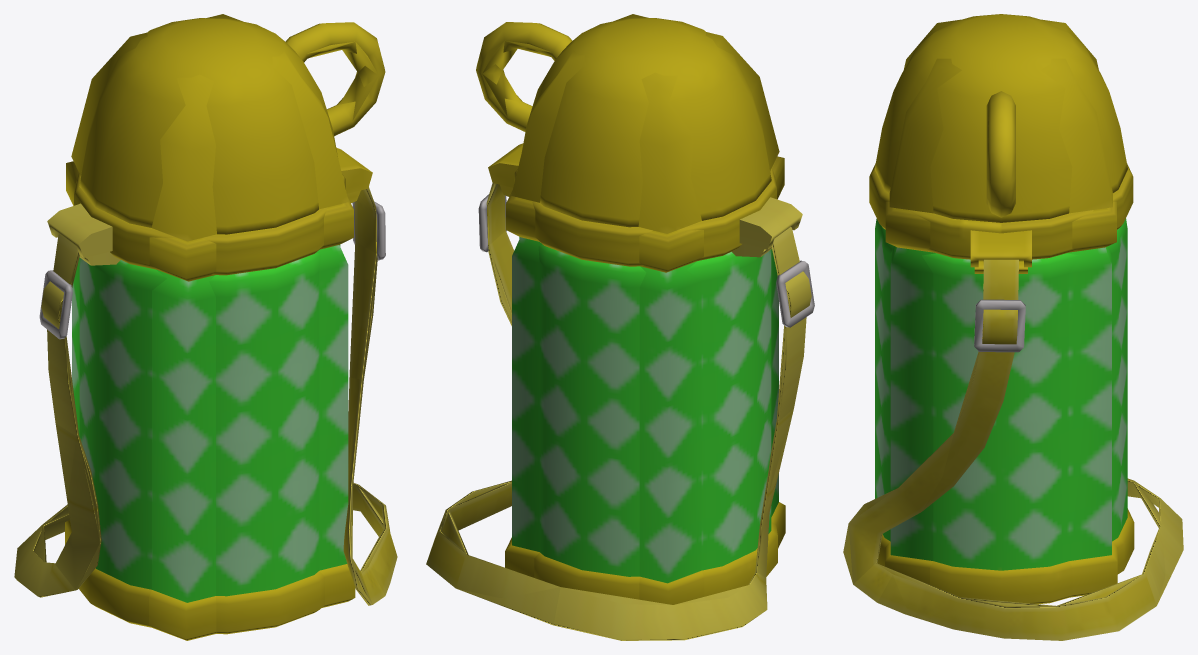
Rendered from pi_waterbottle02_03.gltf.
The picture shows the model from 3 angles, left to right: view 1: azimuth 30°, elevation 25°; view 2: azimuth 150°, elevation 25°; view 3: azimuth 270°, elevation 25°; orthographic projection. The views are drawn at different scales.
Parts seen in each view (by area): view 1: um_pi_waterbottle02_03_model_lod0Shape:pi_waterbottle02_03_b, um_pi_waterbottle02_03_model_lod2Shape:pi_waterbottle02_03_b, um_pi_waterbottle02_03_model_lod1Shape:pi_waterbottle02_03_b; view 2: um_pi_waterbottle02_03_model_lod0Shape:pi_waterbottle02_03_b, um_pi_waterbottle02_03_model_lod2Shape:pi_waterbottle02_03_b, um_pi_waterbottle02_03_model_lod1Shape:pi_waterbottle02_03_b; view 3: um_pi_waterbottle02_03_model_lod0Shape:pi_waterbottle02_03_b, um_pi_waterbottle02_03_model_lod2Shape:pi_waterbottle02_03_b, um_pi_waterbottle02_03_model_lod1Shape:pi_waterbottle02_03_b.
Boxes of the visible parts, <box> form: um_pi_waterbottle02_03_model_lod0Shape:pi_waterbottle02_03_b: <box>14,18,397,634</box>; um_pi_waterbottle02_03_model_lod2Shape:pi_waterbottle02_03_b: <box>34,14,388,640</box>; um_pi_waterbottle02_03_model_lod1Shape:pi_waterbottle02_03_b: <box>55,210,396,595</box>; um_pi_waterbottle02_03_model_lod0Shape:pi_waterbottle02_03_b: <box>426,18,814,640</box>; um_pi_waterbottle02_03_model_lod2Shape:pi_waterbottle02_03_b: <box>442,14,793,604</box>; um_pi_waterbottle02_03_model_lod1Shape:pi_waterbottle02_03_b: <box>457,201,793,624</box>; um_pi_waterbottle02_03_model_lod0Shape:pi_waterbottle02_03_b: <box>843,14,1183,640</box>; um_pi_waterbottle02_03_model_lod2Shape:pi_waterbottle02_03_b: <box>848,19,1161,606</box>; um_pi_waterbottle02_03_model_lod1Shape:pi_waterbottle02_03_b: <box>877,170,1183,628</box>.
Bounding box in the file's own units: 0.2159 × 0.3218 × 0.1898.
1 material, 1 textured.
